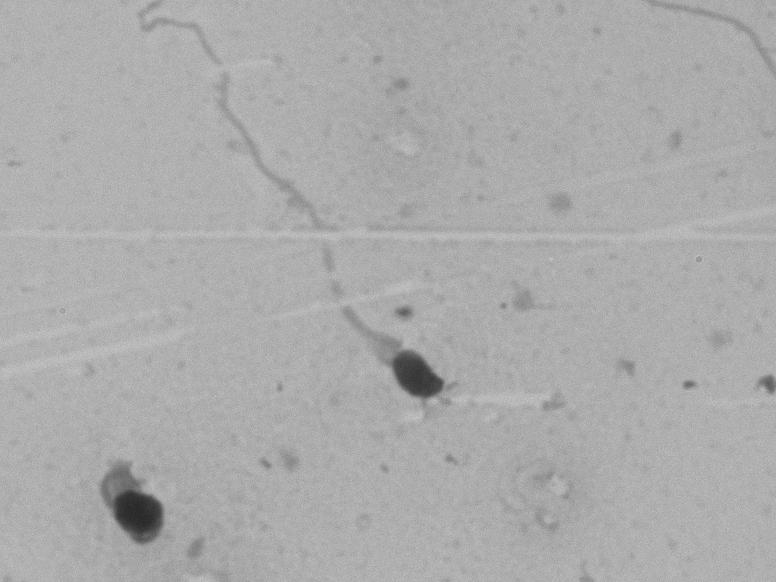Abnormal: (127, 91, 473, 429), (56, 447, 191, 569)
